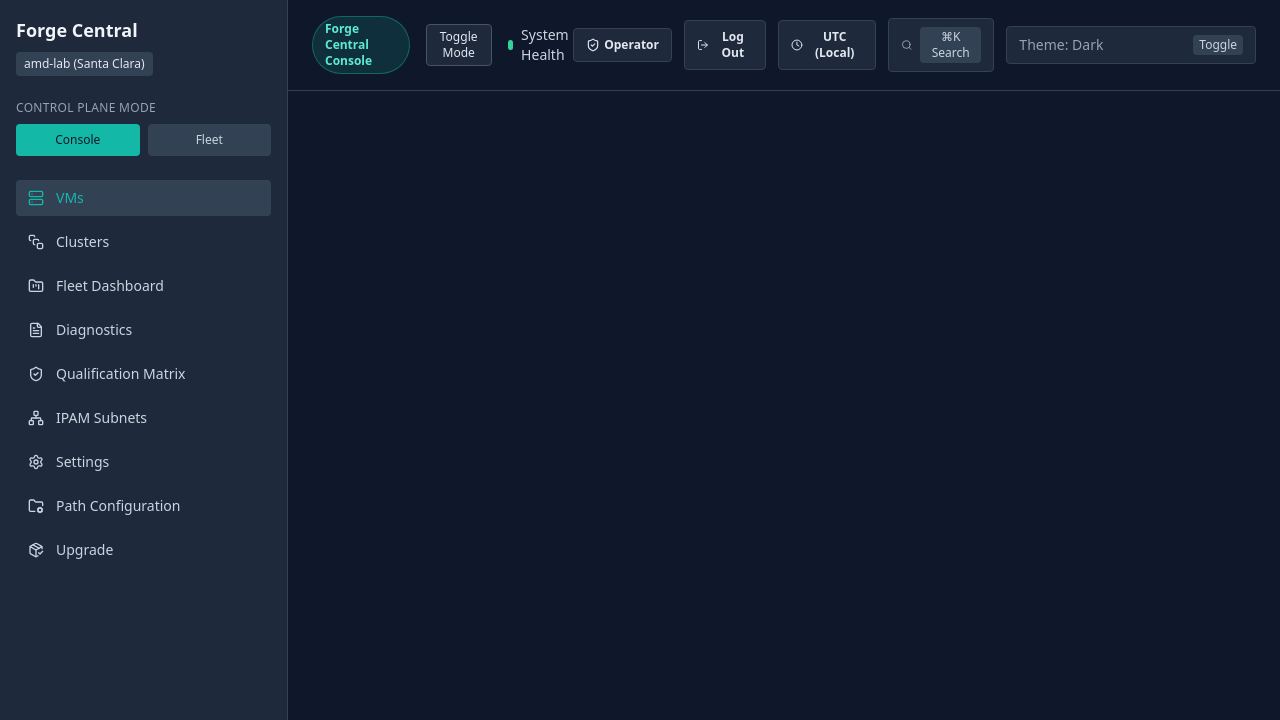
CorrelationPage › command palette offers Qualification Matrix navigation
This screenshot has width=1280, height=720.
Press k
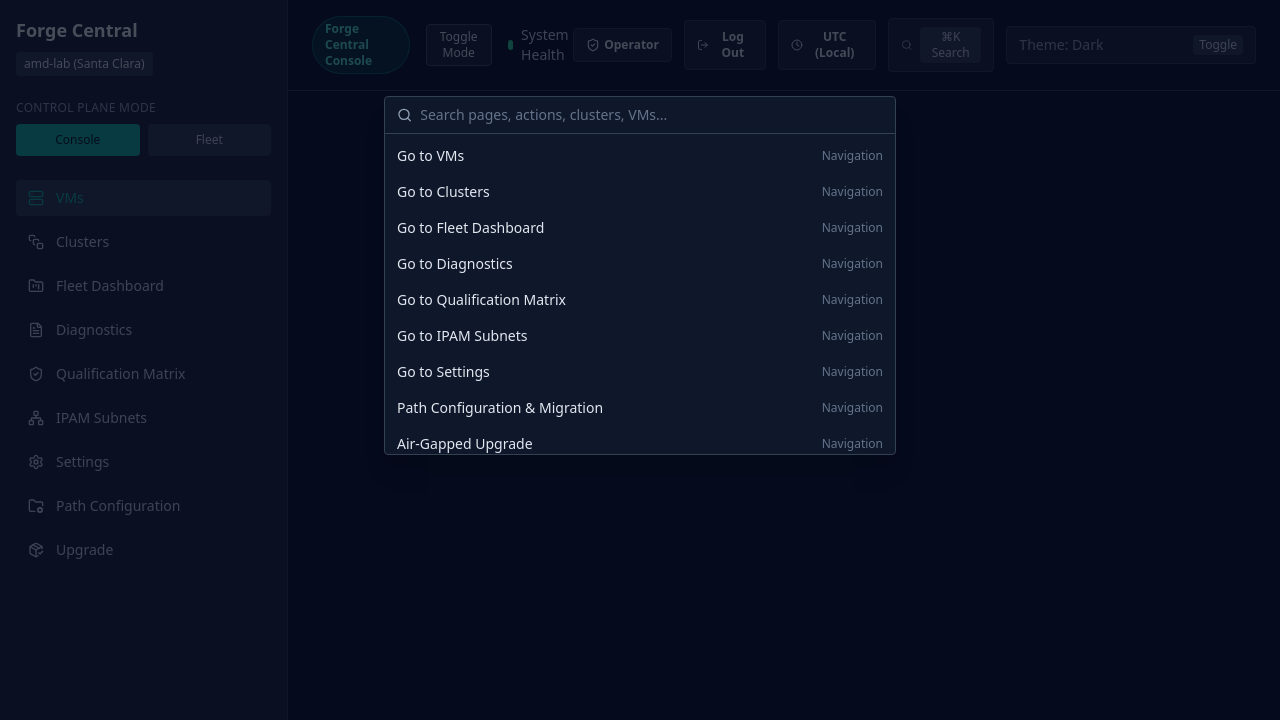
Click the button with test id "command-item-nav-analytics-correlation": (481, 300) [385,282,895,318]
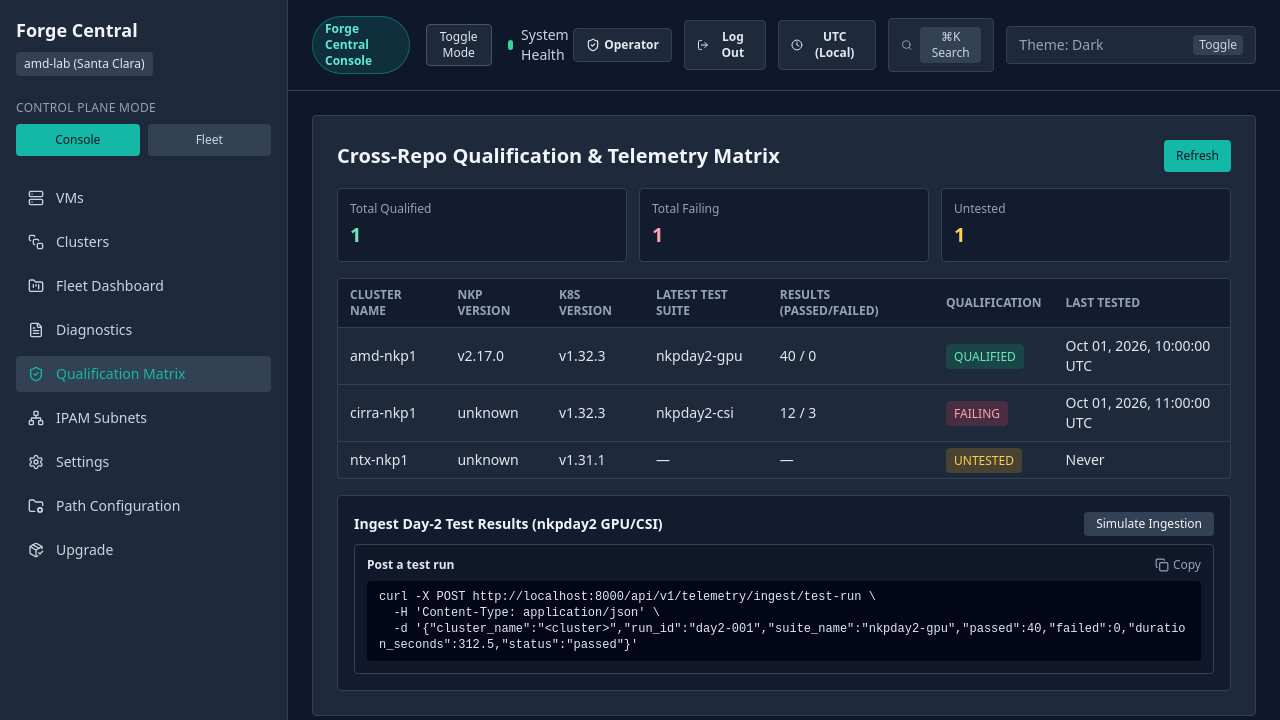
Now the heading "Cross-Repo Qualification & Telemetry Matrix" is shown, box [337,142,780,170]
